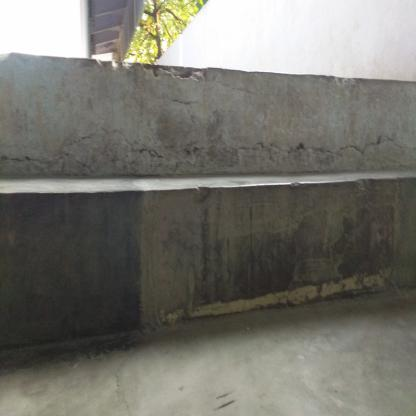stairs: (14, 50, 413, 347)
